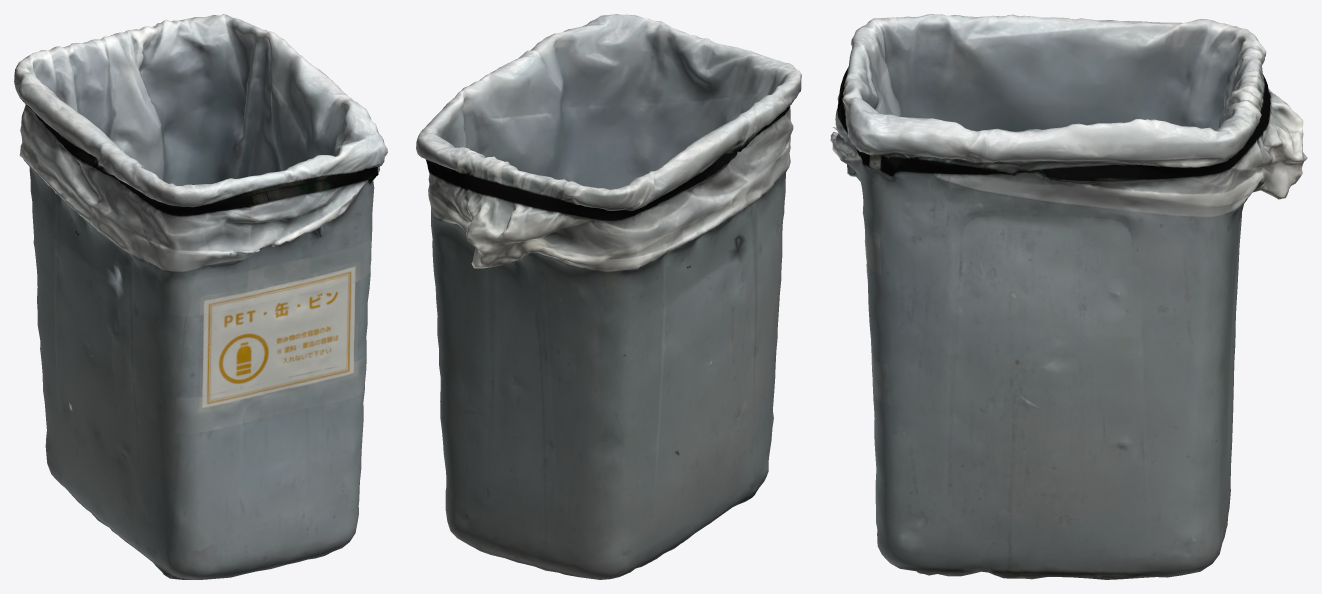
File: trash-can.glb
The picture shows the model from 3 angles, left to right: view 1: azimuth 30°, elevation 25°; view 2: azimuth 150°, elevation 25°; view 3: azimuth 270°, elevation 25°; orthographic projection. The views are drawn at different scales.
Parts seen in each view (by area): view 1: ObjectCapture; view 2: ObjectCapture; view 3: ObjectCapture.
Boxes of the visible parts, left/top/right/bottom form: ObjectCapture: left=14, top=14, right=387, bottom=579; ObjectCapture: left=416, top=14, right=801, bottom=579; ObjectCapture: left=830, top=14, right=1307, bottom=579.
Size of the model in its own units: 0.5999 by 1 by 0.9101.
Materials: 1 (1 with a texture image).
